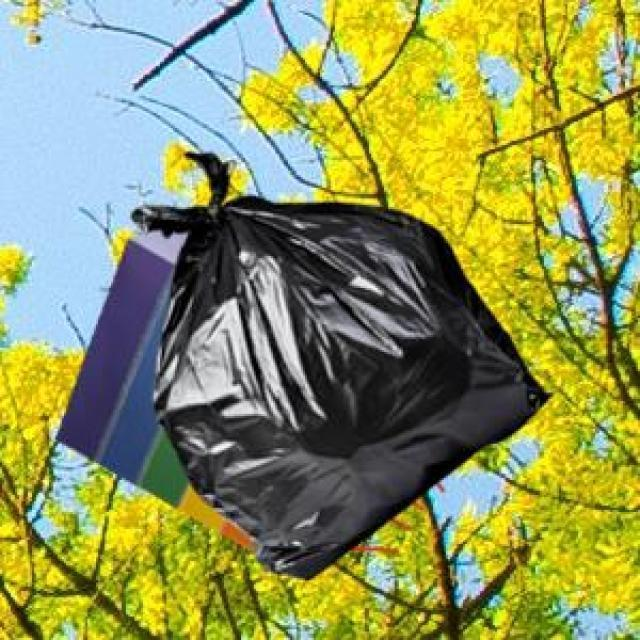miscellaneous trash: (128, 149, 546, 576)
paper: (51, 226, 394, 548)
